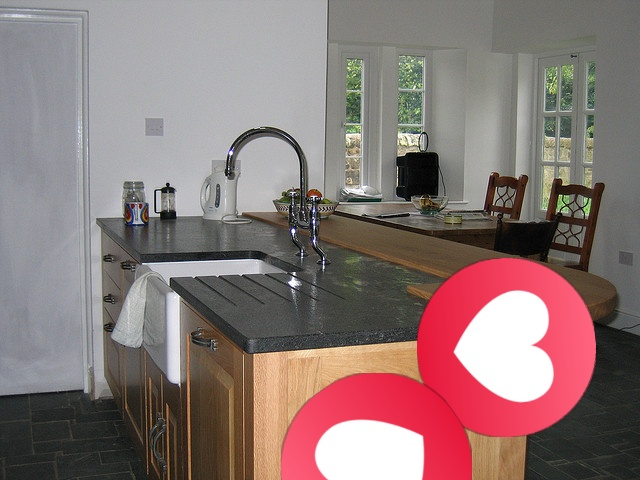love: (417, 258, 596, 437), (281, 373, 472, 480)
